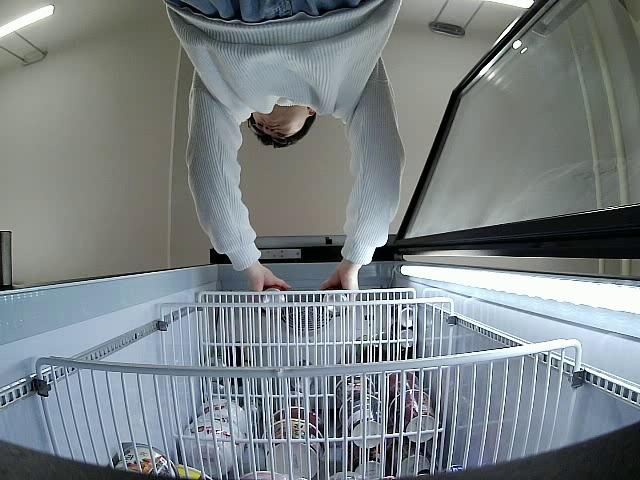00_hand: (321, 262, 360, 304), (250, 264, 291, 299)
